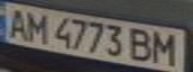3: (103, 21, 130, 59)
4: (48, 15, 75, 48)
7: (84, 19, 106, 54), (66, 16, 87, 52)
A: (0, 6, 30, 39)
B: (124, 26, 157, 63)
M: (148, 29, 184, 66), (21, 9, 51, 44)
